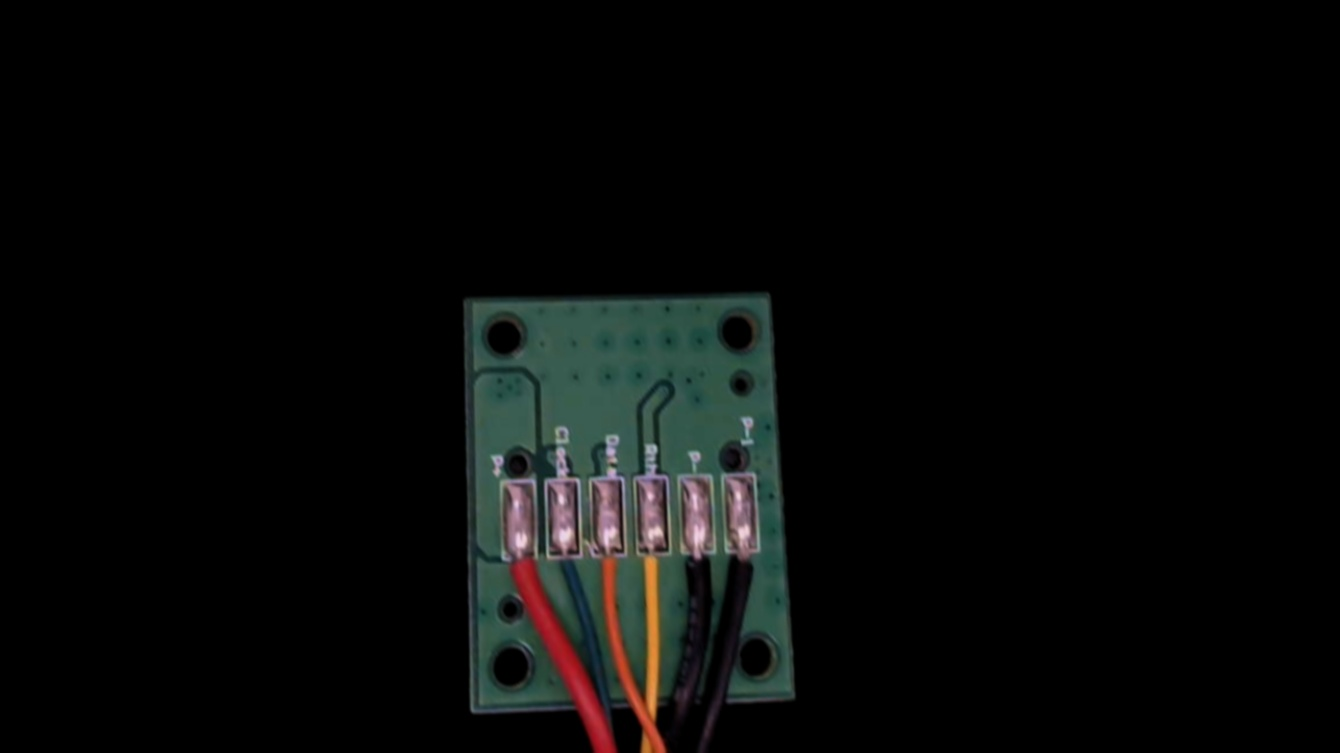Black: (677, 533, 719, 626)
Black1: (724, 533, 765, 620)
Green: (545, 534, 582, 611)
Orange: (589, 534, 628, 626)
Red: (497, 538, 537, 628)
Yellow: (630, 535, 671, 629)
